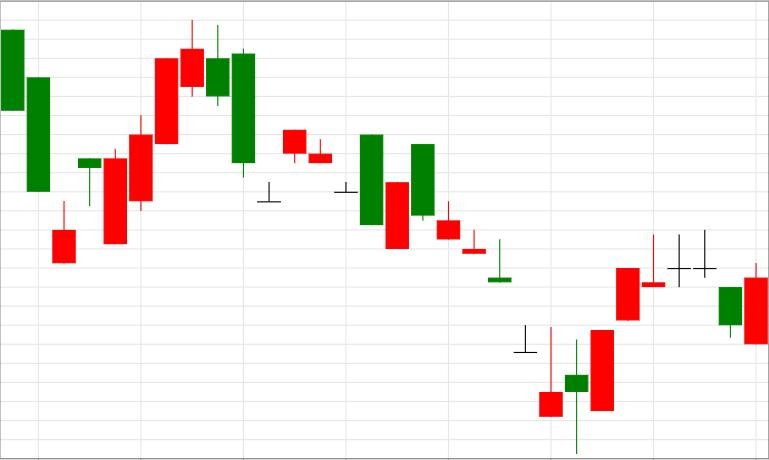inverse_hammer_rise: (411, 144, 563, 417)
